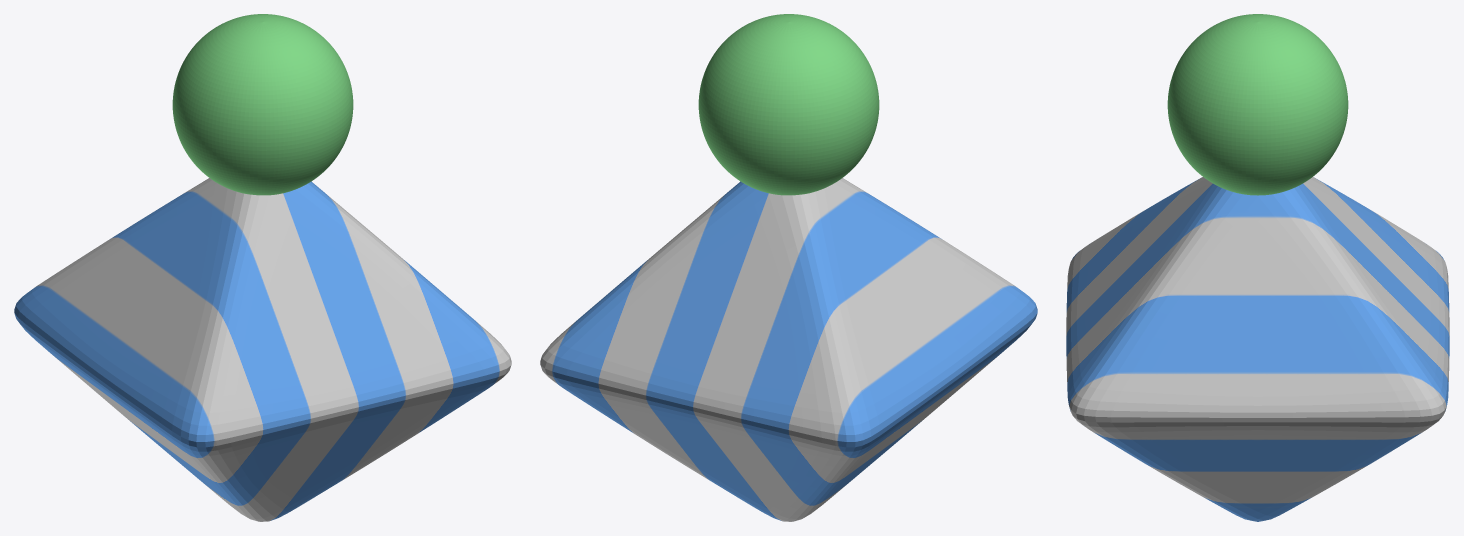
The model's file is BOD4_BMC1_BCC13_BPT1_FRC0_HEA0_HMC13_HCC0_HPT0_ELT0_ERT0_ELL0_ERL0_AP0_AAL0_AAR0_BEK0.fbx.
3 views of the same model, side by side, from view 1: azimuth 30°, elevation 25°; view 2: azimuth 150°, elevation 25°; view 3: azimuth 270°, elevation 25° (orthographic).
Parts seen in each view (by area): view 1: Body, Head; view 2: Body, Head; view 3: Body, Head.
Boxes of the visible parts, x1,y1,x2,y2 form: Body: (14, 178, 511, 521); Head: (172, 14, 353, 195); Body: (540, 178, 1037, 521); Head: (698, 14, 879, 195); Body: (1066, 177, 1449, 521); Head: (1167, 14, 1348, 195).
Size of the model in its own units: 105 by 150 by 105.
Materials: 2 (2 with a texture image).
